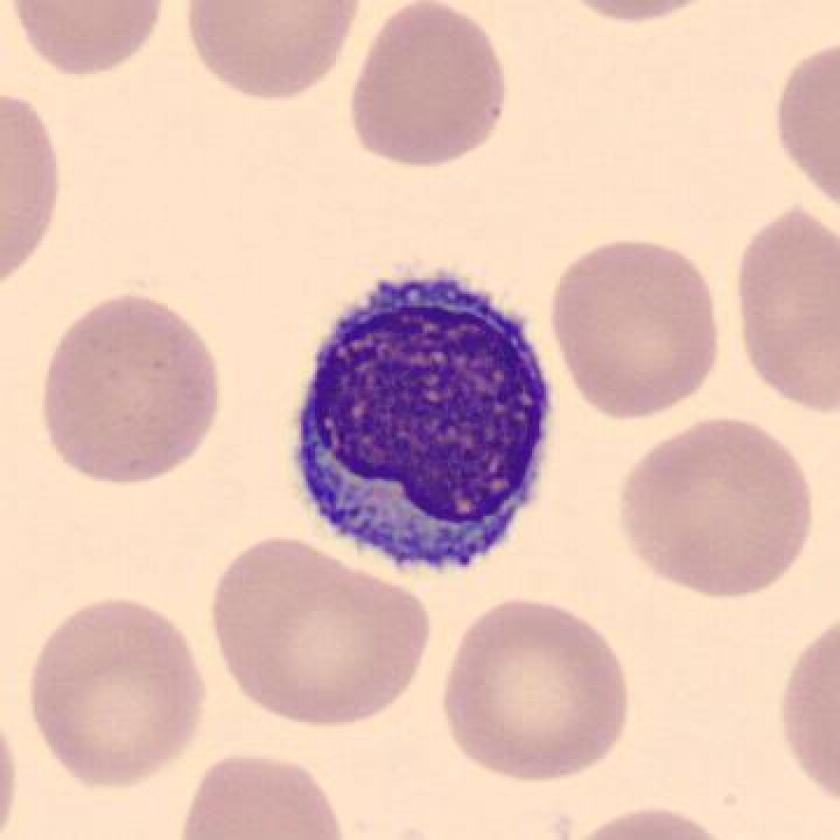lymphocyte: (281, 263, 566, 594)
